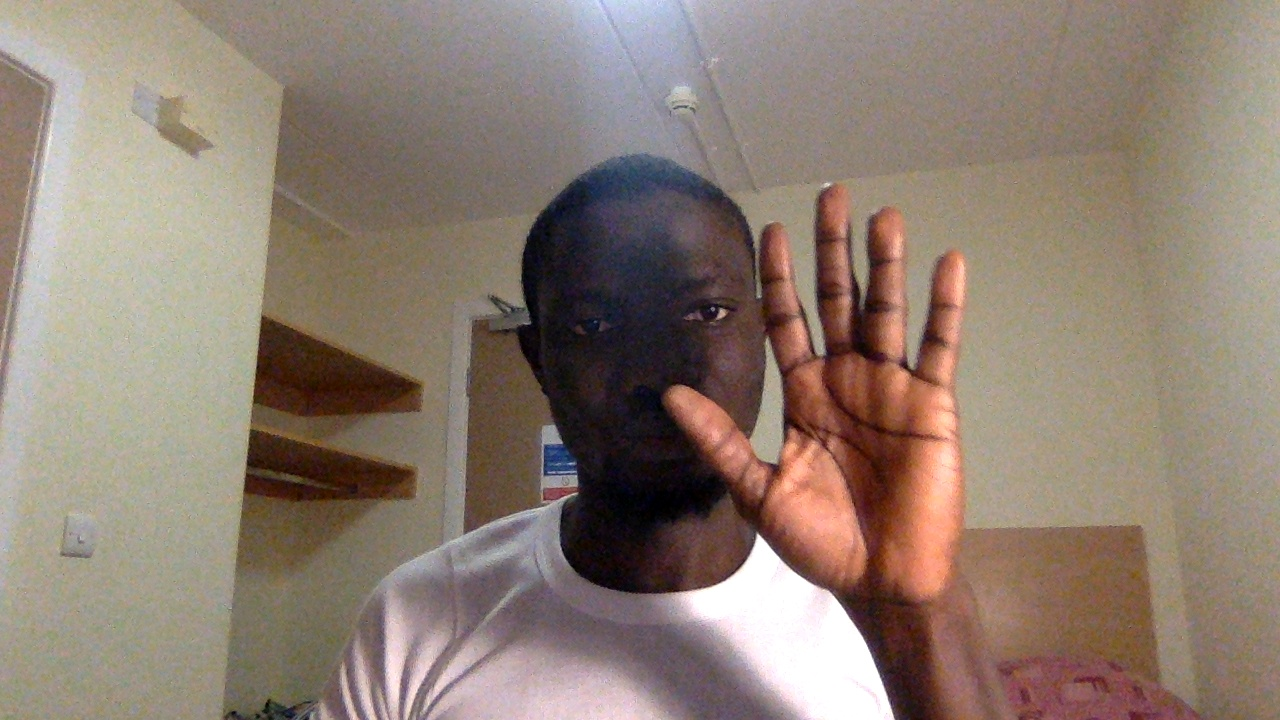Hello: (650, 176, 980, 631)
